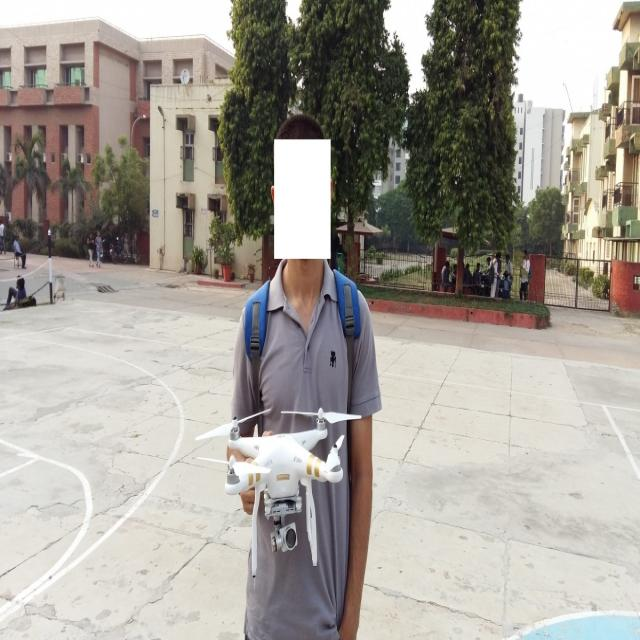drones: (196, 399, 365, 586)
